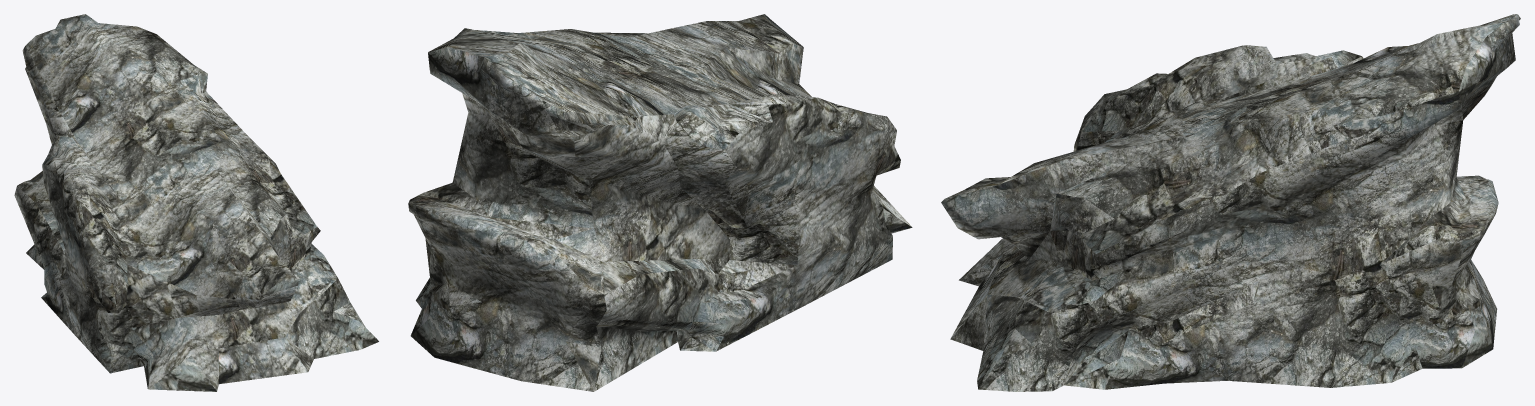
The model's file is DinoBlock_01.DAE.
3 views of the same model, side by side, from view 1: azimuth 30°, elevation 25°; view 2: azimuth 150°, elevation 25°; view 3: azimuth 270°, elevation 25° (orthographic). The views are drawn at different scales.
Visible parts, largest first — view 1: DinoBlockONE300; view 2: DinoBlockONE300; view 3: DinoBlockONE300.
Boxes of the visible parts, box(x1,y1,x2,y2) form: DinoBlockONE300: box(14, 14, 378, 391); DinoBlockONE300: box(408, 14, 912, 391); DinoBlockONE300: box(941, 14, 1520, 391).
Size of what is drawn, in the model's own units: 86.91 by 131 by 74.98.
